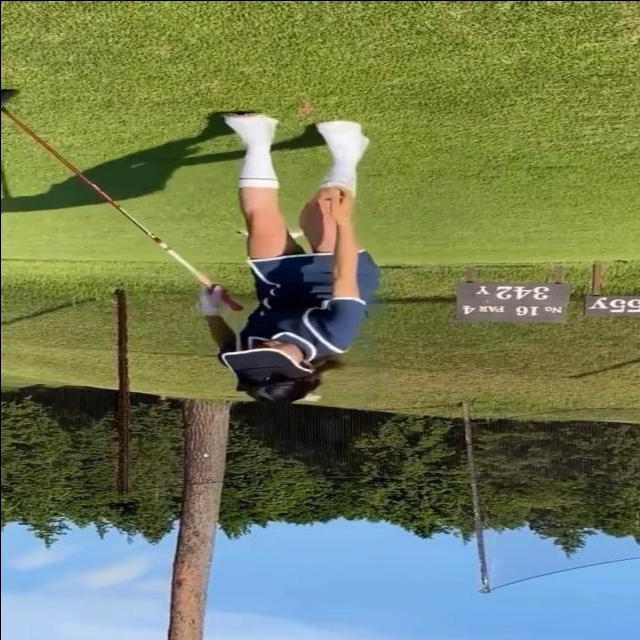golf club-handle: (0, 106, 243, 310)
